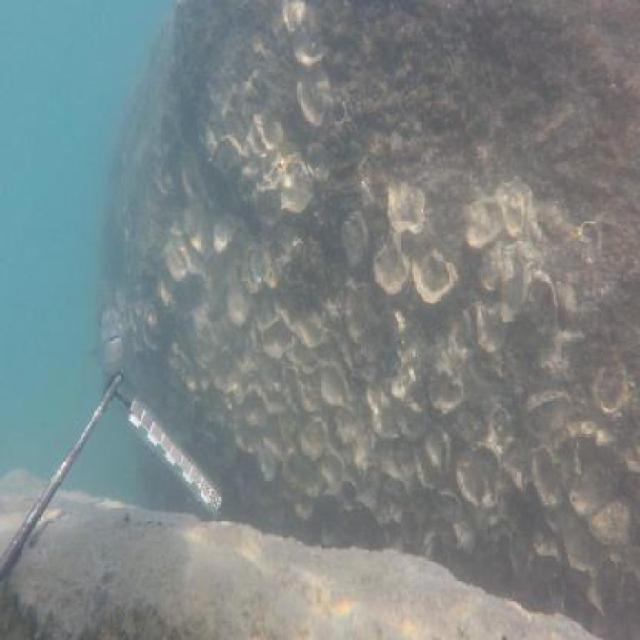acanthopagrus_palmaris: (92, 282, 126, 378)
